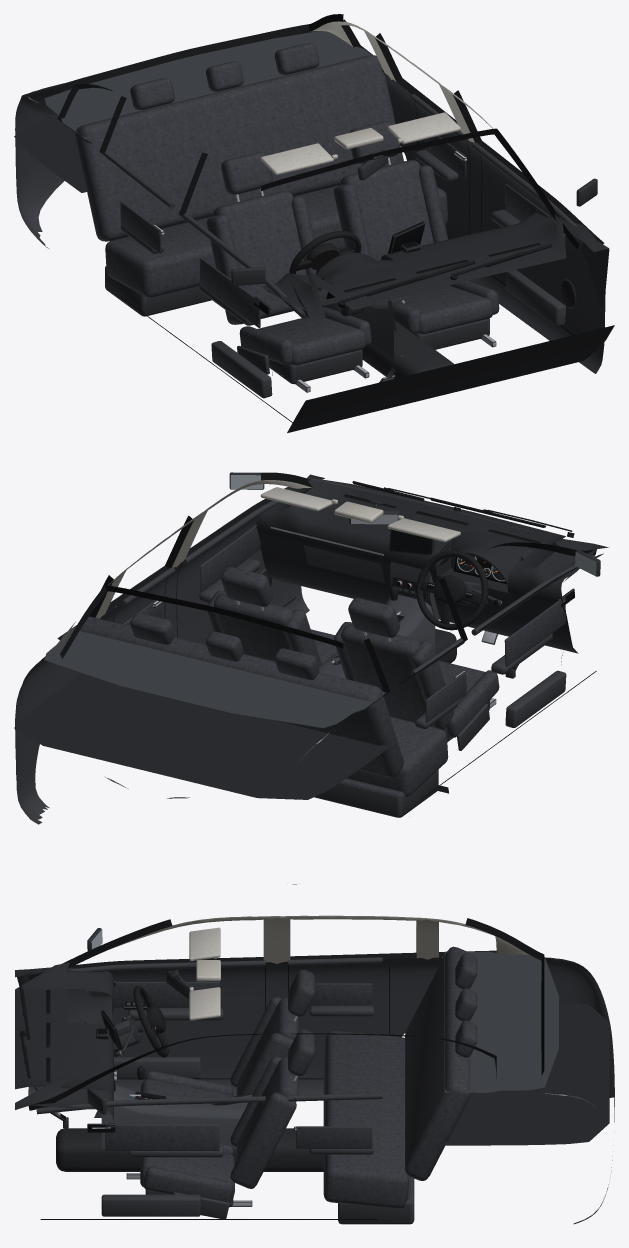
File: cockpit.glb
3 views of the same model, one above another, from view 1: azimuth 30°, elevation 25°; view 2: azimuth 150°, elevation 25°; view 3: azimuth 270°, elevation 25° (orthographic). The views are drawn at different scales.
Visible parts, largest first — view 1: Seats, DoorTrims, Floor, Dashboard, Pillars, RoofLining, SteeringWheel, CenterConsole, WiperArm_R, Mirror_SideR; view 2: Floor, Seats, Dashboard, DoorTrims, Pillars, RoofLining, SteeringWheel, CenterConsole, Display_Center, WiperArm_R; view 3: Seats, DoorTrims, Floor, Dashboard, Pillars, CenterConsole, RoofLining, SteeringWheel.
Boxes of the visible parts, x1,y1,x2,y2 form: Seats: (75, 43, 499, 392); DoorTrims: (15, 31, 605, 425); Floor: (14, 31, 614, 432); Dashboard: (262, 212, 609, 382); Pillars: (28, 14, 604, 318); RoofLining: (260, 22, 489, 175); SteeringWheel: (289, 231, 361, 274); CenterConsole: (322, 250, 420, 359); WiperArm_R: (338, 260, 475, 307); Mirror_SideR: (231, 266, 265, 285); Floor: (14, 626, 456, 799); Seats: (79, 567, 499, 817); Dashboard: (256, 474, 608, 678); DoorTrims: (15, 500, 596, 884); Pillars: (29, 472, 603, 743); RoofLining: (108, 484, 460, 585); SteeringWheel: (416, 550, 488, 630); CenterConsole: (319, 586, 435, 678); Display_Center: (391, 530, 430, 552); WiperArm_R: (430, 497, 574, 537); Seats: (126, 946, 477, 1224); DoorTrims: (28, 957, 614, 1224); Floor: (56, 951, 609, 1171); Dashboard: (15, 962, 143, 1128); Pillars: (28, 917, 567, 1110); CenterConsole: (101, 1066, 252, 1148); RoofLining: (189, 915, 465, 1020); SteeringWheel: (133, 986, 168, 1057).
Size of the model in its own units: 2.14 by 1.17 by 3.15.
Materials: 35 (15 with a texture image).
